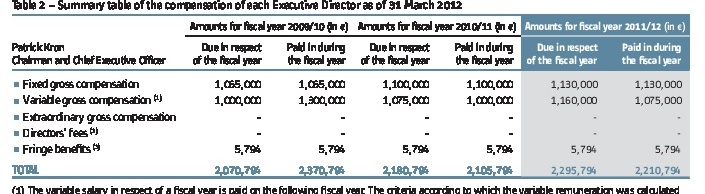table: (0, 0, 705, 194)
